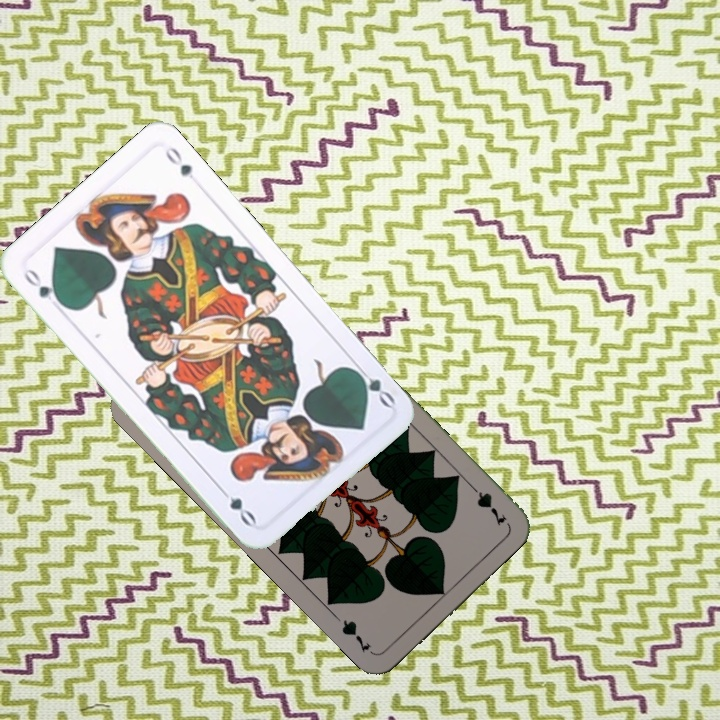G7: (463, 478, 510, 529)
GO: (348, 360, 398, 410), (19, 264, 67, 309)
